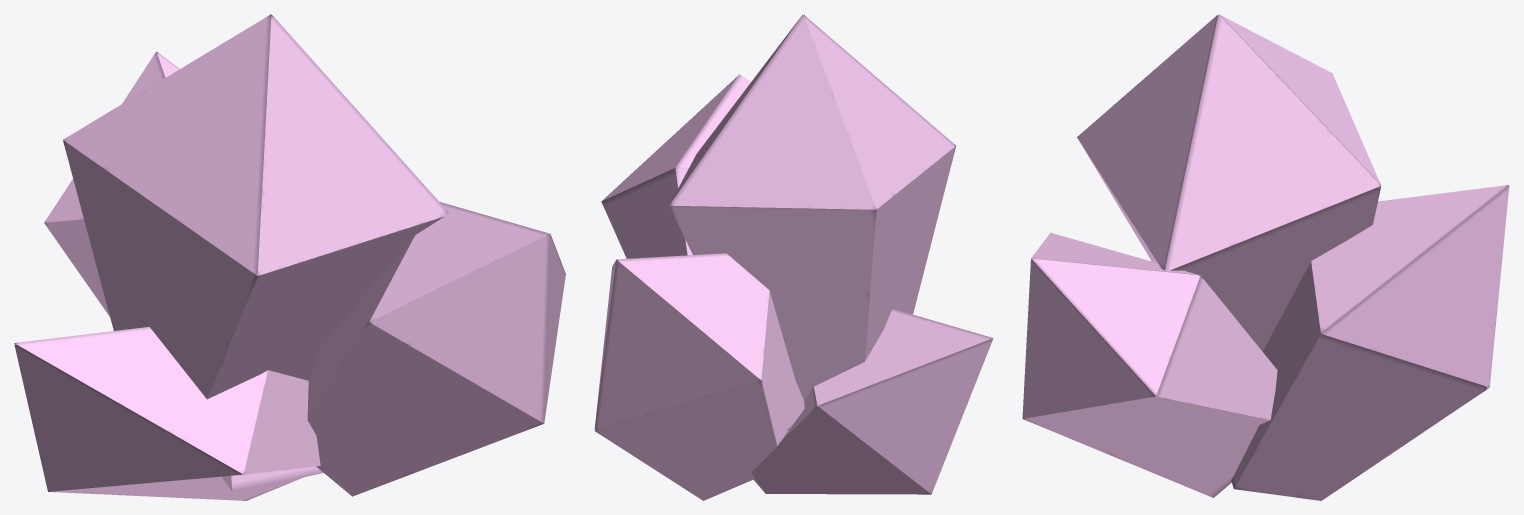
The model's file is cristal_blob.fbx.
3 views of the same model, side by side, from view 1: azimuth 30°, elevation 25°; view 2: azimuth 150°, elevation 25°; view 3: azimuth 270°, elevation 25° (orthographic). The views are drawn at different scales.
Parts seen in each view (by area): view 1: cuboid, cuboid_3, cuboid_2, cuboid_1; view 2: cuboid, cuboid_1, cuboid_2, cuboid_3; view 3: cuboid, cuboid_1, cuboid_3.
Part boxes in pixels (box(x1,y1,x2,y2)): cuboid: box(63, 14, 448, 399); cuboid_3: box(307, 202, 565, 496); cuboid_2: box(14, 327, 320, 500); cuboid_1: box(44, 51, 323, 491); cuboid: box(669, 14, 955, 431); cuboid_1: box(594, 253, 804, 500); cuboid_2: box(751, 308, 993, 494); cuboid_3: box(601, 74, 750, 258); cuboid: box(1077, 14, 1381, 351); cuboid_1: box(1231, 185, 1509, 500); cuboid_3: box(1022, 232, 1277, 497).
Size of the model in its own units: 187 by 186 by 177.
1 material, 1 textured.
